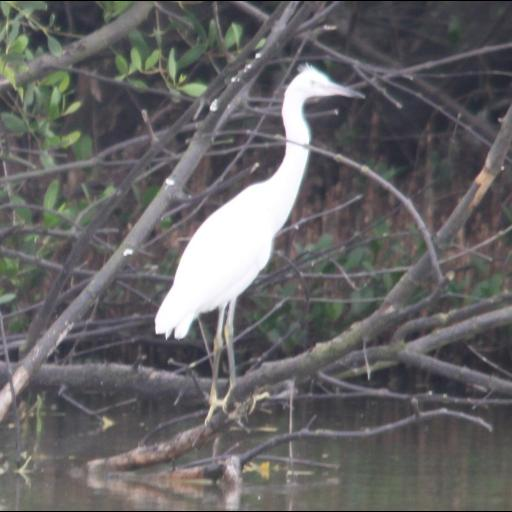chinese_egret: (156, 62, 366, 426)
